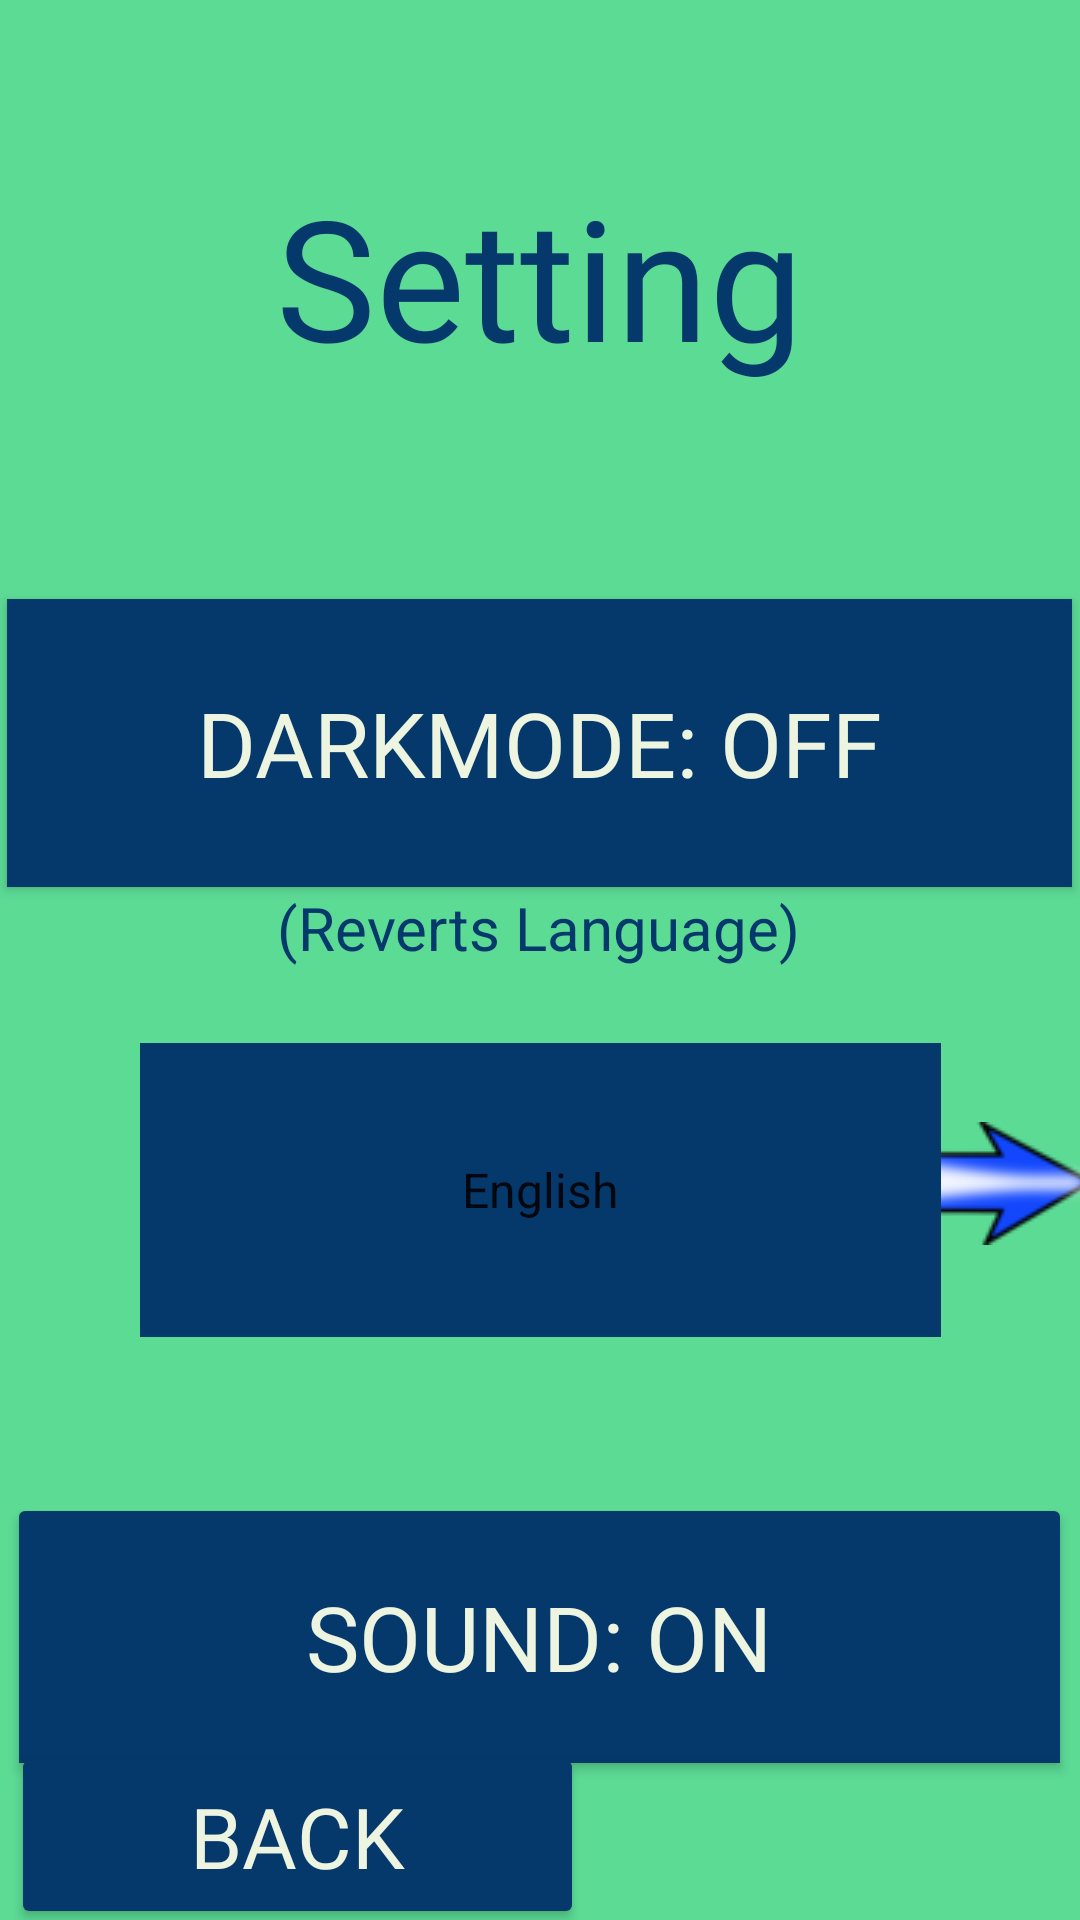

Icon click points for this 1080*1920 phone screenshot, format (x=x, y=y):
arrow: (x=999, y=1183)
